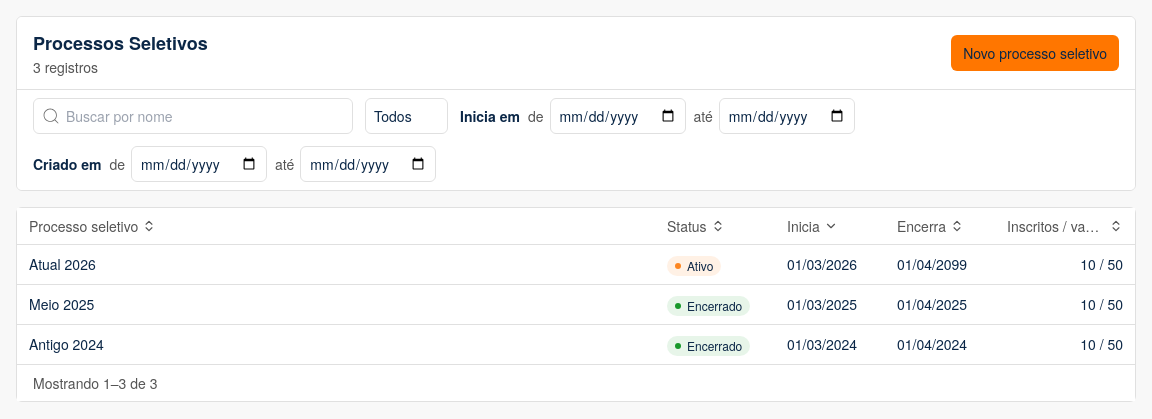
Test: Processos Seletivos na Dash V2 (tickets/021 card 04) › filtros por nome, Inicia em e Criado em (card 05) › ⚠️ Limpar filtros zera os quatro — campos e contagem
Expected: the text "Atual 2026" is shown, [29,254,96,274]
Type "2026" into the search field labelled "Buscar por nome" at point(193, 116), box [33,98,353,134]
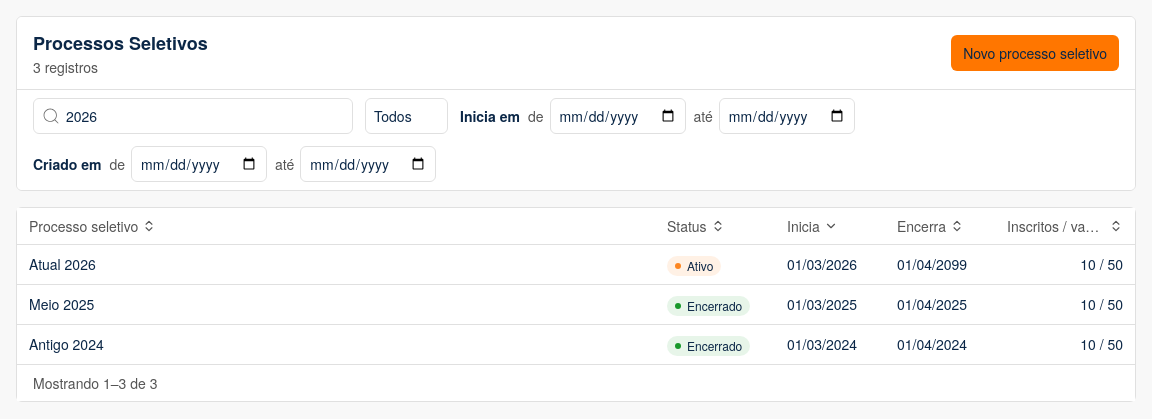
Type "2026-01-01" into the date field named "Inicia em — de" at point(618, 116), box [550,98,686,134]
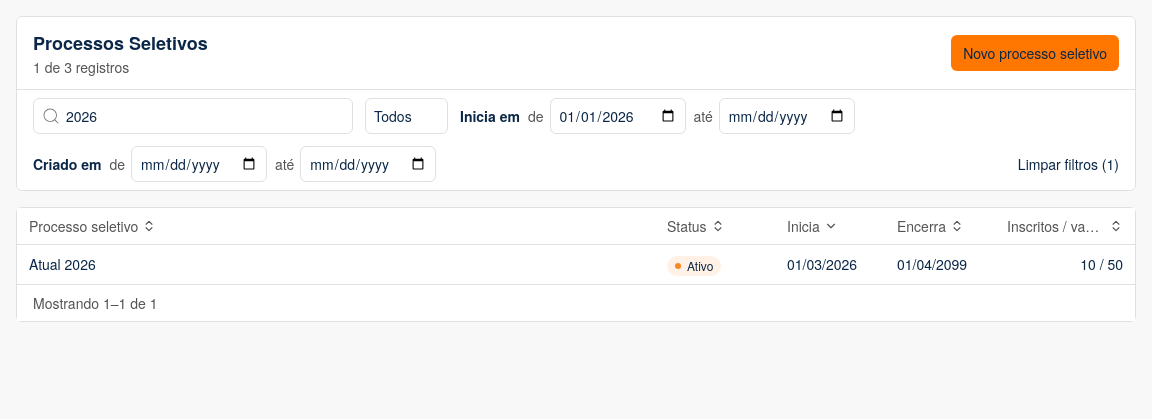
Type "2026-01-01" into the date field named "Criado em — de" at point(199, 164), box [131,146,267,182]
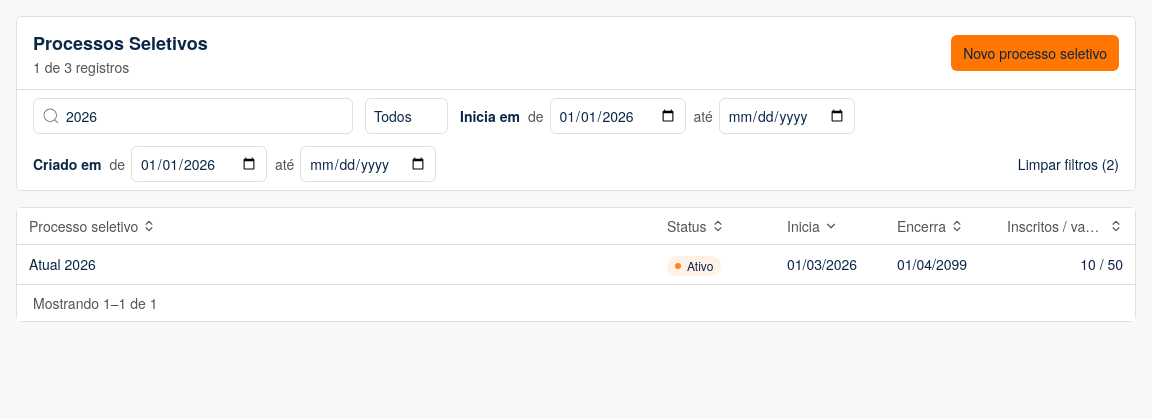
Select "Ativo" in the dropdown named "Status" at point(406, 116), box [365,98,448,134]
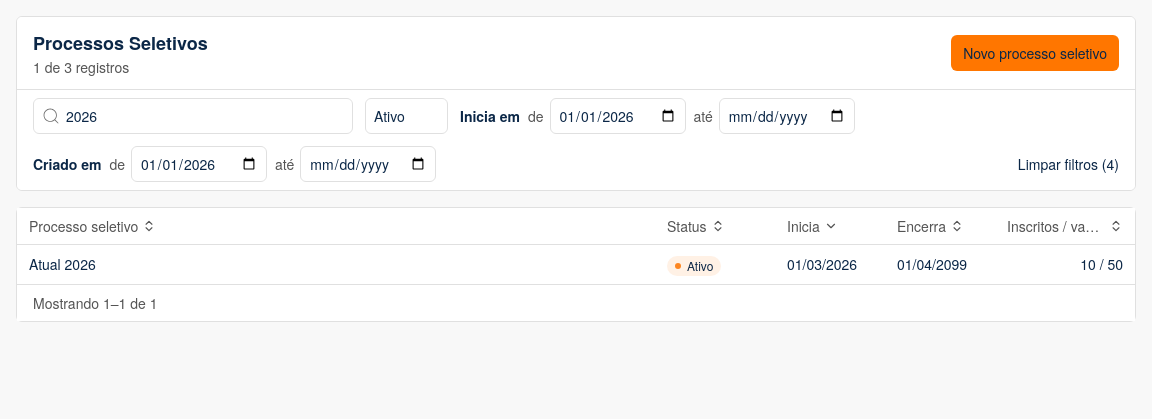
Click the button "Limpar filtros (4)" at point(1068, 164), box [1018,154,1119,174]
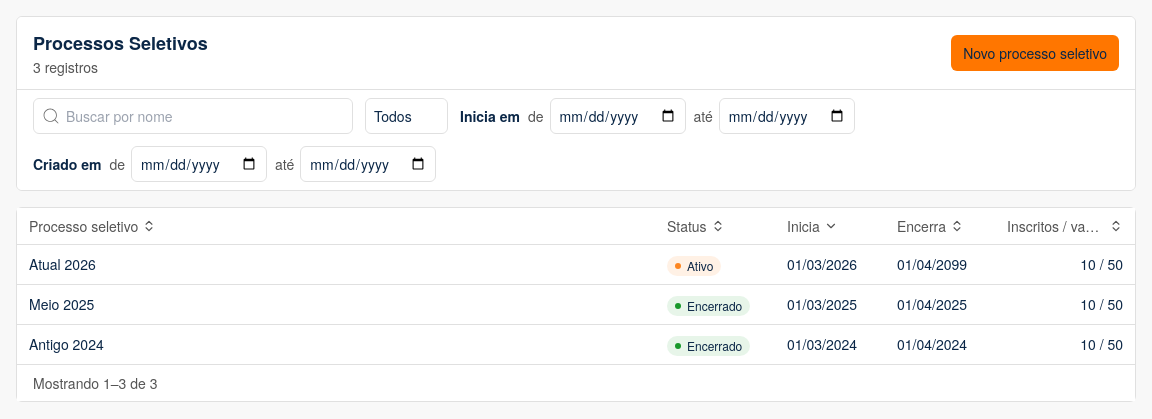
Expected: the search field is empty, [33,98,353,134]
Expected: the date field named "Inicia em — de" is empty, [550,98,686,134]
Expected: the date field named "Criado em — de" is empty, [131,146,267,182]
